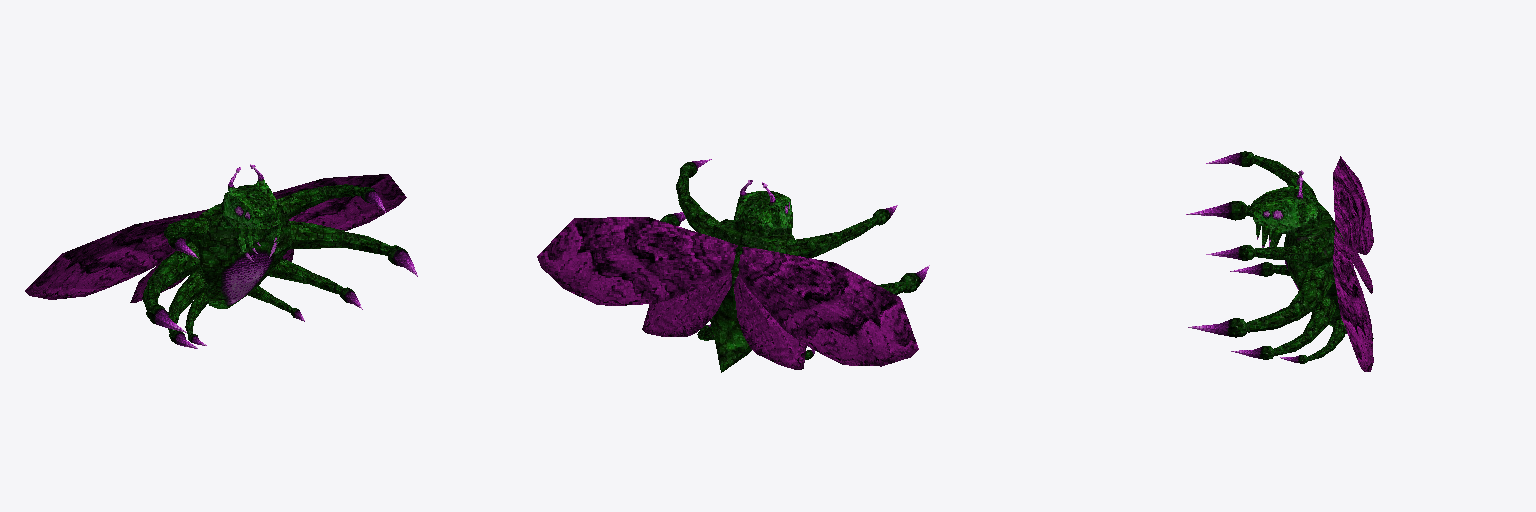
The picture shows the model from 3 angles: view 1: azimuth 30°, elevation 25°; view 2: azimuth 150°, elevation 25°; view 3: azimuth 270°, elevation 25°; orthographic projection.
Parts seen in each view (by area): view 1: WingRightTop, Body, WingLeftTop, Head, ArmLeftUpper02, ArmRightUpper02, ArmLeftUpper01, ArmRightUpper03, ArmLeftLower02, ArmLeftUpper03, ArmRightUpper01; view 2: WingRightTop, WingLeftTop, Body, WingLeftBottom, WingRightBottom, Head, ArmRightUpper01, ArmLeftUpper01; view 3: WingLeftTop, WingRightTop, Head, Body, ArmLeftUpper02, ArmLeftLower02, ArmLeftUpper03, HandRight02, HandLeft02, ArmLeftUpper01.
Boxes of the visible parts, x1,y1,x2,y2 form: WingRightTop: [25, 209, 208, 299]; Body: [185, 203, 291, 308]; WingLeftTop: [273, 174, 406, 230]; Head: [221, 183, 279, 229]; ArmLeftUpper02: [289, 221, 344, 249]; ArmRightUpper02: [147, 242, 200, 291]; ArmLeftUpper01: [277, 186, 328, 219]; ArmRightUpper03: [169, 272, 206, 313]; ArmLeftLower02: [342, 232, 391, 255]; ArmLeftUpper03: [268, 258, 311, 283]; ArmRightUpper01: [168, 218, 208, 240]; WingRightTop: [738, 247, 918, 366]; WingLeftTop: [537, 217, 737, 305]; Body: [707, 219, 794, 372]; WingLeftBottom: [642, 271, 731, 336]; WingRightBottom: [734, 274, 806, 369]; Head: [733, 191, 791, 236]; ArmRightUpper01: [785, 232, 842, 257]; ArmLeftUpper01: [678, 195, 718, 234]; WingLeftTop: [1333, 227, 1373, 371]; WingRightTop: [1333, 156, 1373, 254]; Head: [1251, 186, 1323, 235]; Body: [1284, 203, 1373, 338]; ArmLeftUpper02: [1289, 267, 1332, 320]; ArmLeftLower02: [1247, 306, 1297, 332]; ArmLeftUpper03: [1303, 297, 1335, 342]; HandRight02: [1186, 201, 1246, 220]; HandLeft02: [1188, 318, 1246, 337]; ArmLeftUpper01: [1290, 238, 1322, 262].
Bounding box in the file's own units: 3.93 × 1.63 × 1.68.
1 materials, 1 textured.